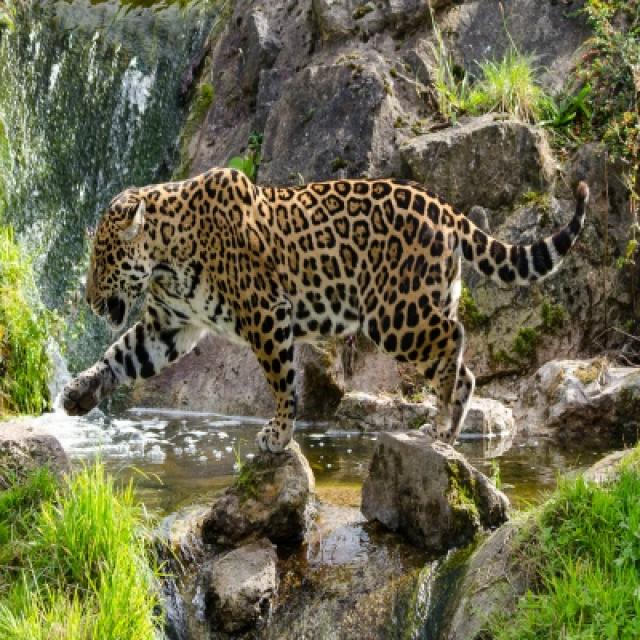Jaguar: (61, 168, 592, 454)
